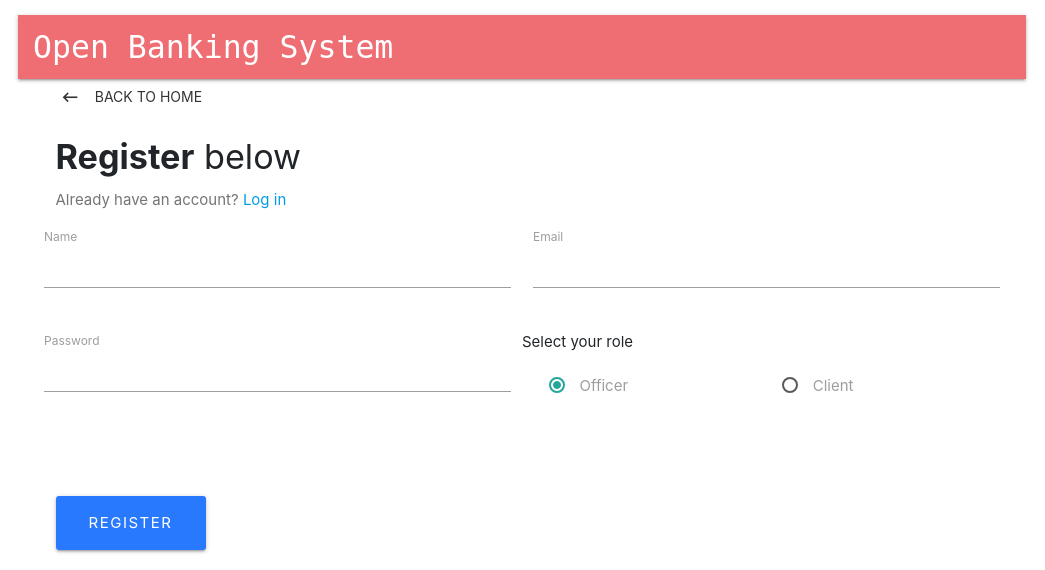
it: Renders login page
The width and height of the screenshot is (1045, 570).
Note: click Login link
Click the link "Log in": (265, 200) left=243, top=190, right=286, bottom=209
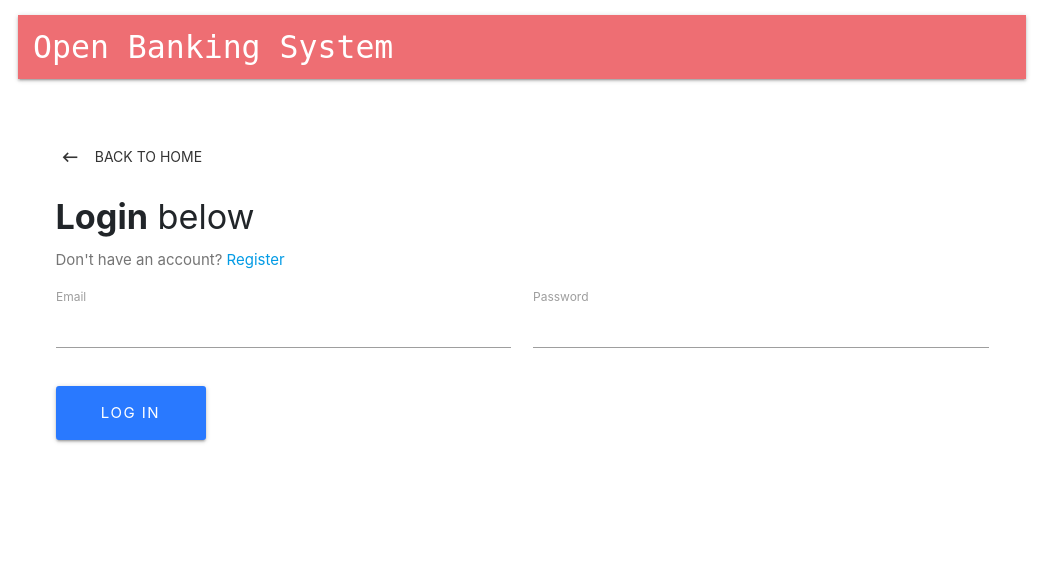
Expected: the navigation bar with test id "nav-bar" is shown, left=18, top=15, right=1026, bottom=79
Expected: the element with test id "login-page" is shown, left=18, top=139, right=1026, bottom=440
Expected: the element with test id "register-page" is gone
